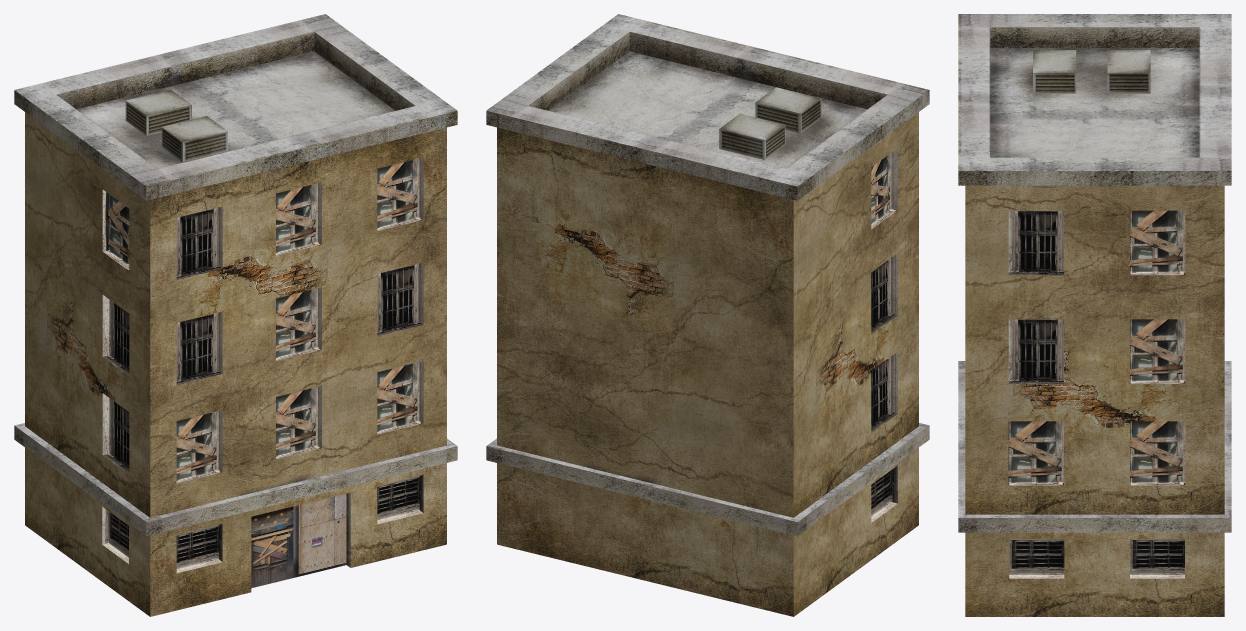
Rendered from Big_house.FBX.
The picture shows the model from 3 angles, left to right: view 1: azimuth 30°, elevation 25°; view 2: azimuth 150°, elevation 25°; view 3: azimuth 270°, elevation 25°; orthographic projection. The views are drawn at different scales.
Parts seen in each view (by area): view 1: bighouse; view 2: bighouse; view 3: bighouse.
Part boxes in pixels (x1,y1,x2,y2): bighouse: (14, 14, 457, 616); bighouse: (486, 14, 929, 616); bighouse: (958, 14, 1231, 616).
Bounding box in the file's own units: 89.78 × 120 × 66.
1 material, 1 textured.
